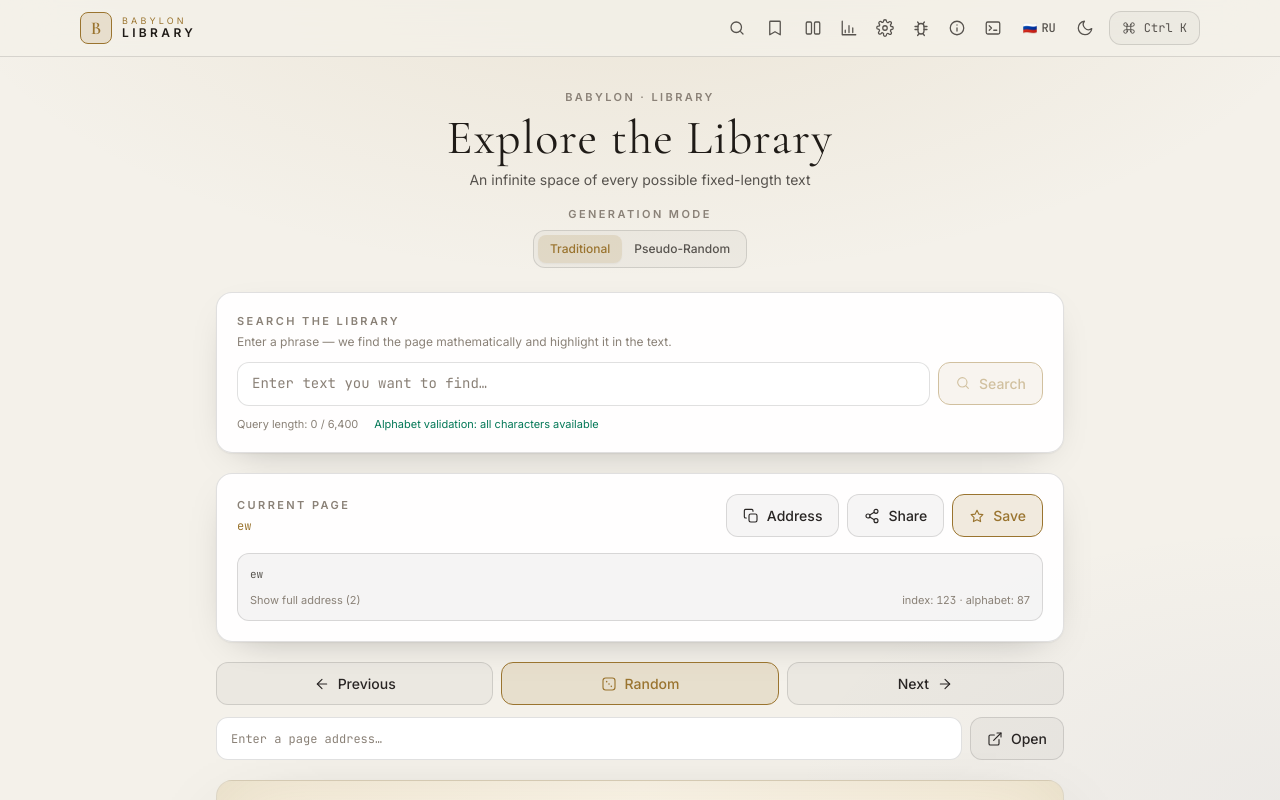
Test: App (integration) › saves a page to bookmarks
The image size is (1280, 800).
Step 1. Click the button "Save" → (998, 516), box [952, 494, 1043, 537]
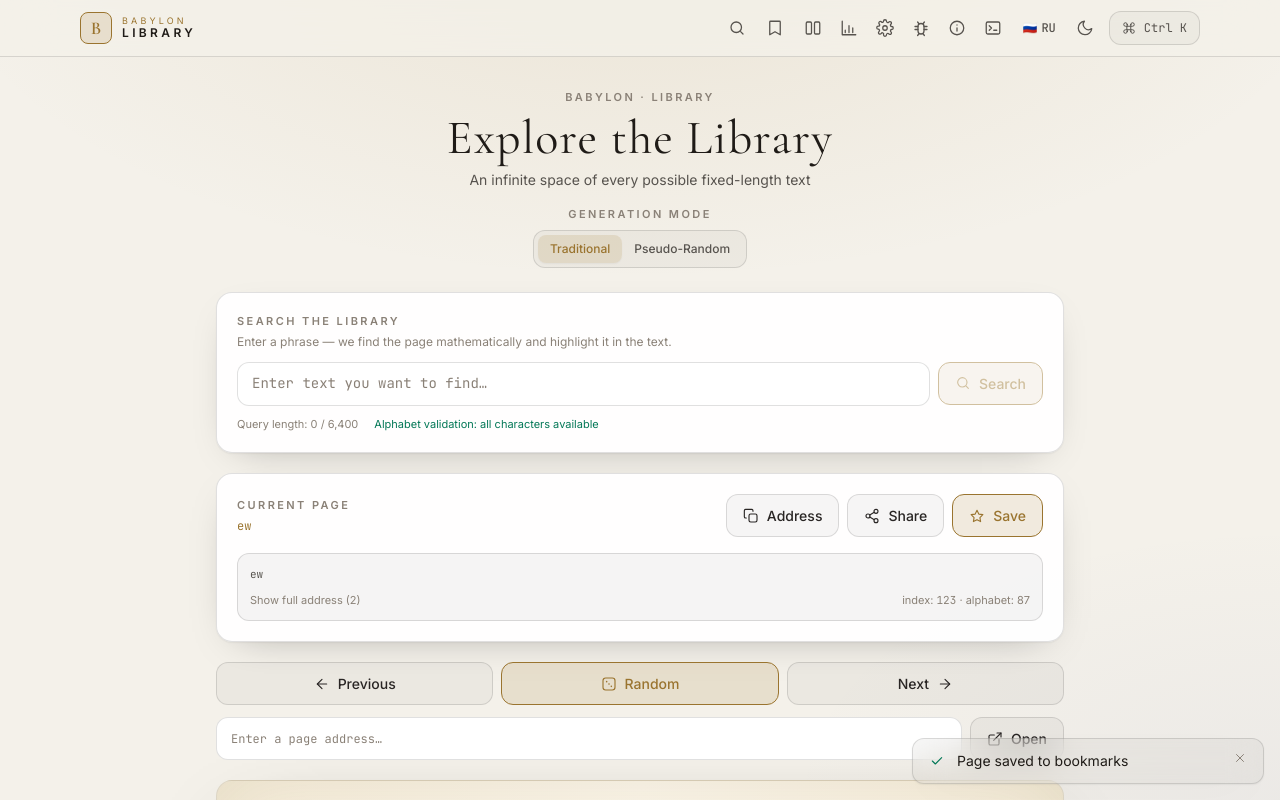
Step 2. Click the button named "bookmarks" → (775, 28), box [757, 10, 793, 46]
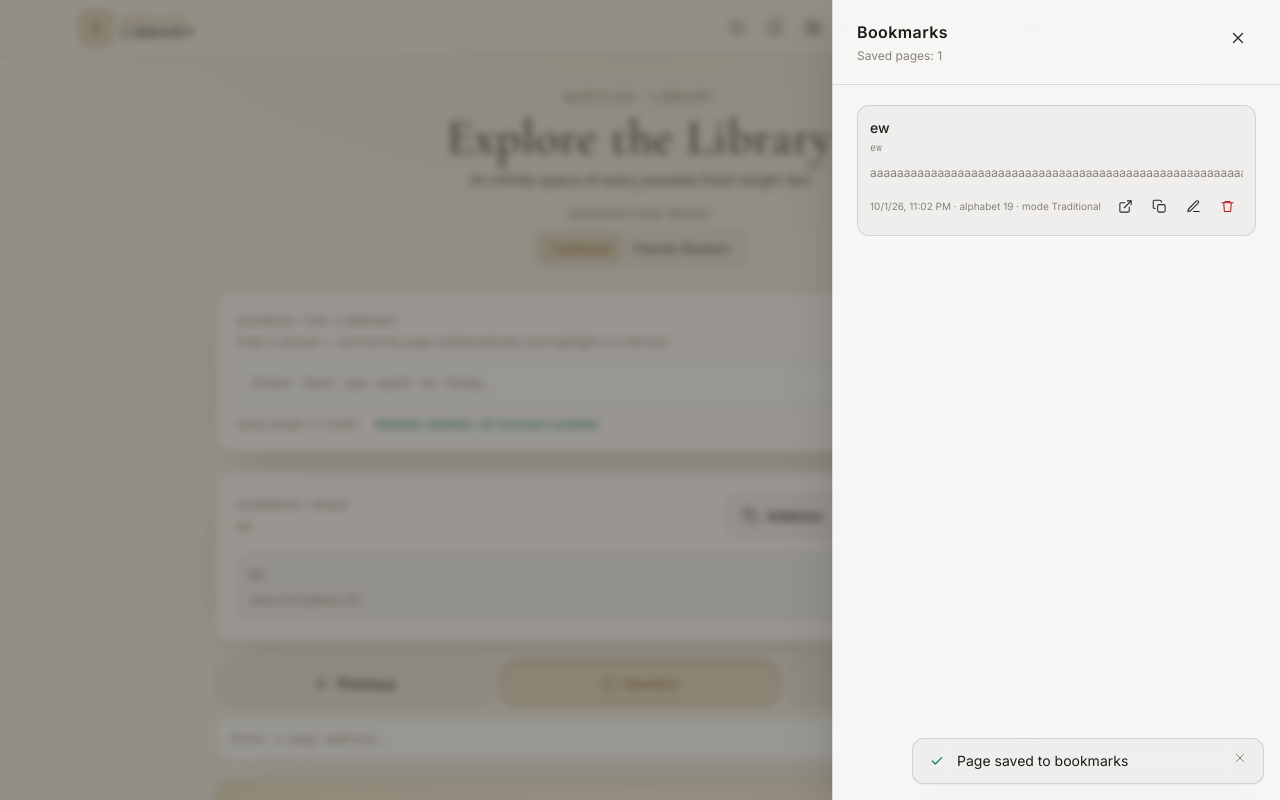
expect the text "Saved pages: 1" is shown: met, box [857, 48, 948, 64]
